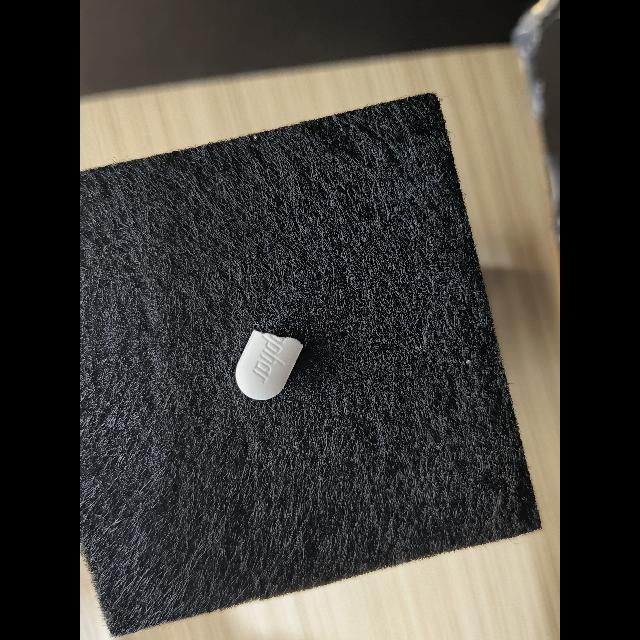Chipped Pill: (235, 330, 303, 400)
